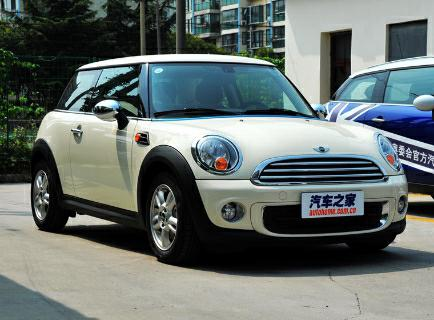MINI: (15, 53, 426, 267)
